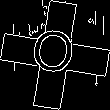O_S: (30, 26, 80, 84)
